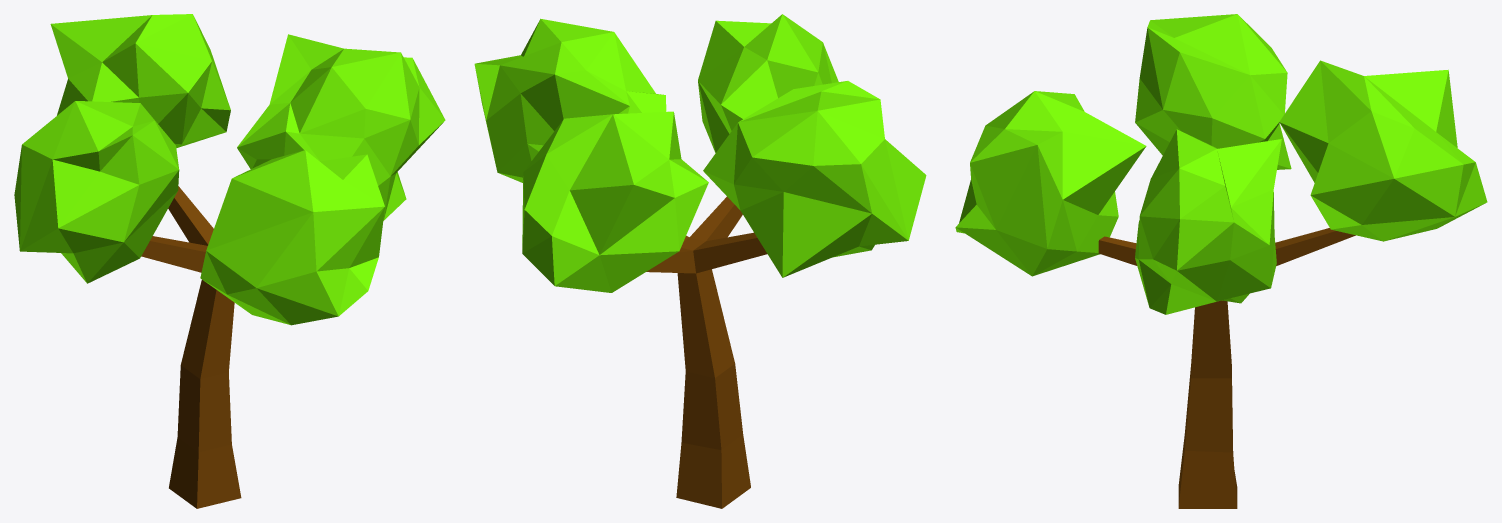
File: Arbol2.FBX
3 renders of one model, left to right at view 1: azimuth 30°, elevation 25°; view 2: azimuth 150°, elevation 25°; view 3: azimuth 270°, elevation 25°, orthographic. The views are drawn at different scales.
Parts seen in each view (by area): view 1: Tree 2; view 2: Tree 2; view 3: Tree 2.
Part boxes in pixels (box(x1,y1,x2,y2)): Tree 2: box(14, 14, 445, 508); Tree 2: box(474, 14, 926, 508); Tree 2: box(955, 14, 1487, 508).
Size of the model in its own units: 1088 by 1051 by 1170.
